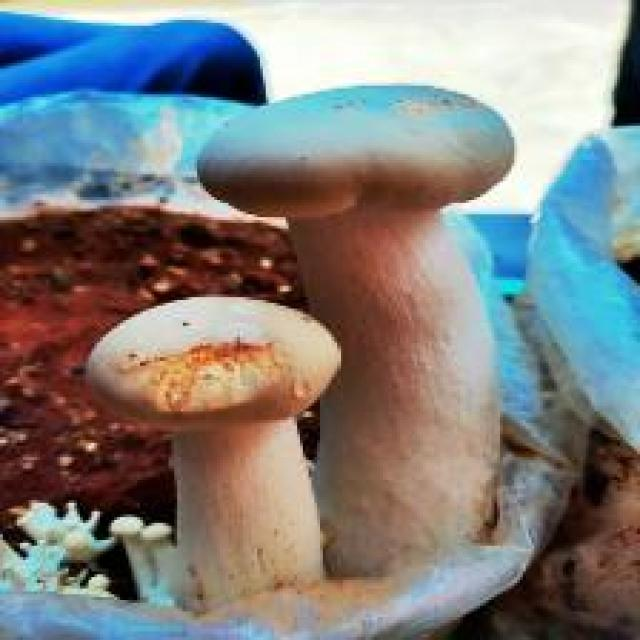field-mushroom: (191, 80, 520, 577), (83, 292, 340, 612)
